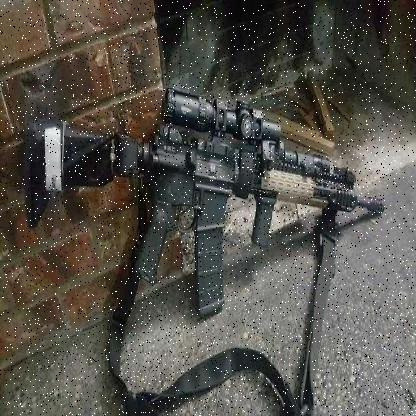rifle: (16, 65, 399, 343)
